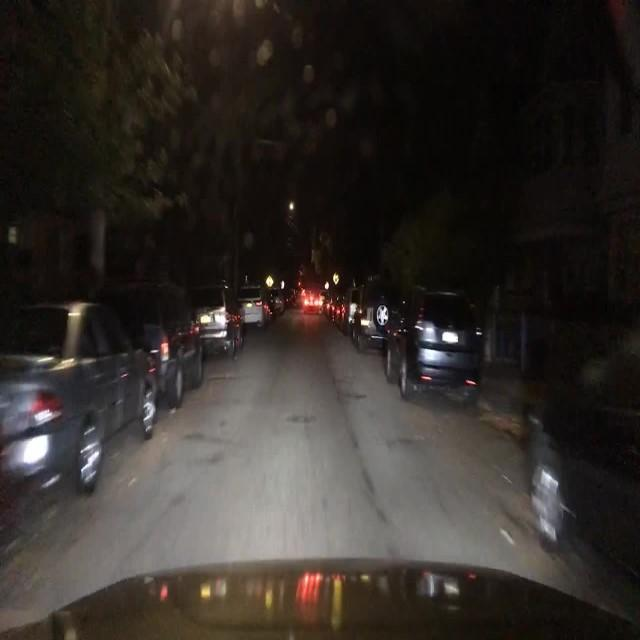normal: (4, 303, 163, 500), (381, 291, 484, 403), (194, 300, 245, 360)
